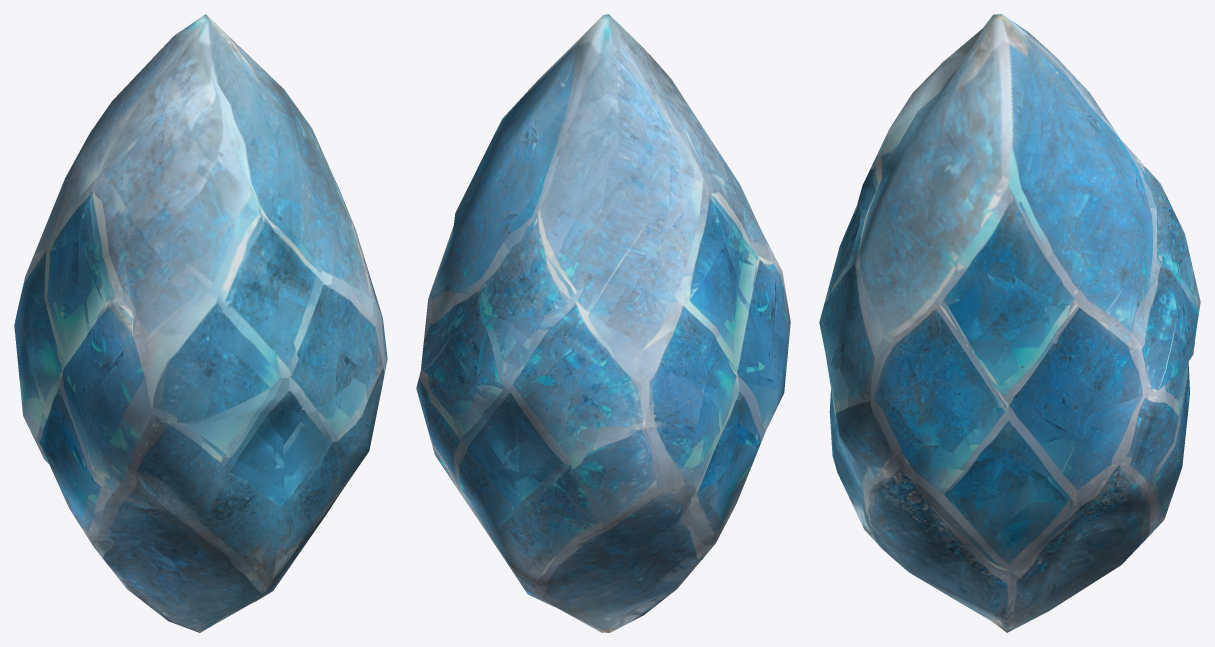
Rendered from light_blue_crystal__0817035628_refine.fbx.
3 renders of one model, left to right at view 1: azimuth 30°, elevation 25°; view 2: azimuth 150°, elevation 25°; view 3: azimuth 270°, elevation 25°, orthographic.
Parts seen in each view (by area): view 1: Mesh_0; view 2: Mesh_0; view 3: Mesh_0.
Boxes of the visible parts, box(x1,y1,x2,y2) form: Mesh_0: box(14, 14, 387, 632); Mesh_0: box(416, 14, 790, 632); Mesh_0: box(819, 14, 1200, 632).
Size of the model in its own units: 57.97 by 120 by 66.95.
Materials: 1 (1 with a texture image).
